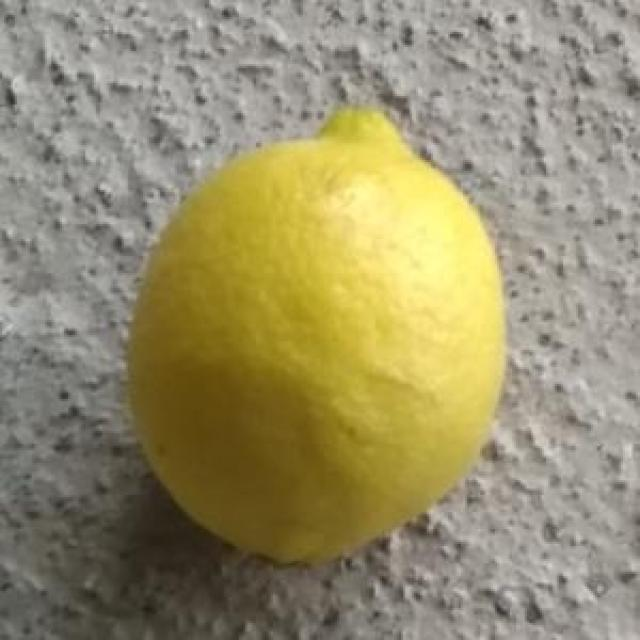lemon: (123, 101, 512, 565)
